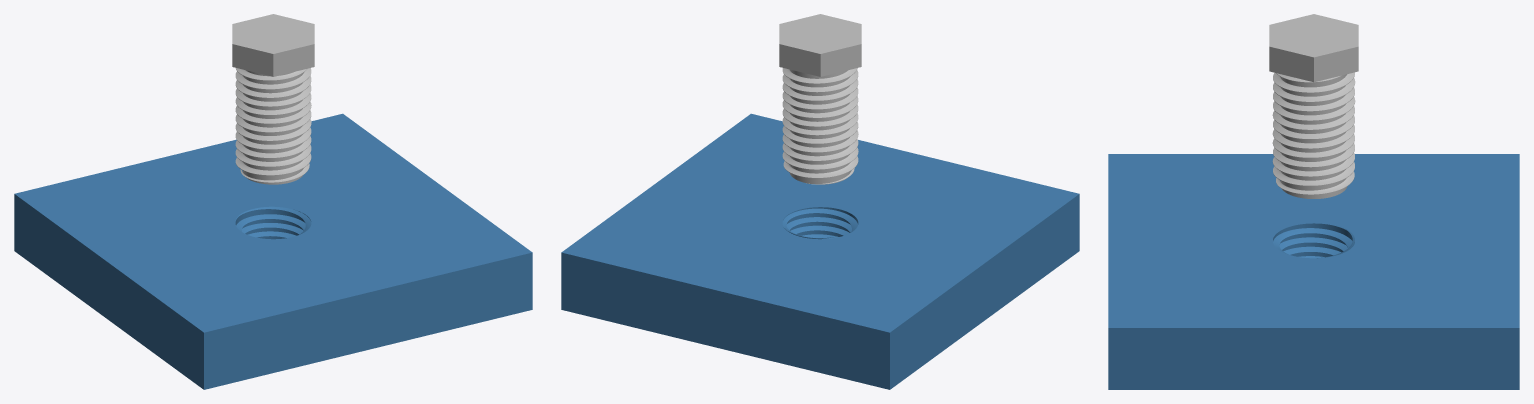
File: vida_plaka_yivli_union.gltf
3 views of the same model, side by side, from view 1: azimuth 30°, elevation 25°; view 2: azimuth 150°, elevation 25°; view 3: azimuth 270°, elevation 25° (orthographic). The views are drawn at different scales.
Visible parts, largest first — view 1: YivliPlaka_part, Vida_part; view 2: YivliPlaka_part, Vida_part; view 3: YivliPlaka_part, Vida_part.
Part boxes in pixels (bbox=[...]): YivliPlaka_part: bbox=[14, 113, 532, 389]; Vida_part: bbox=[232, 14, 314, 184]; YivliPlaka_part: bbox=[561, 113, 1079, 389]; Vida_part: bbox=[779, 14, 861, 184]; YivliPlaka_part: bbox=[1108, 154, 1519, 389]; Vida_part: bbox=[1269, 14, 1358, 198].
Bounding box in the file's own units: 60 × 43.52 × 60.
